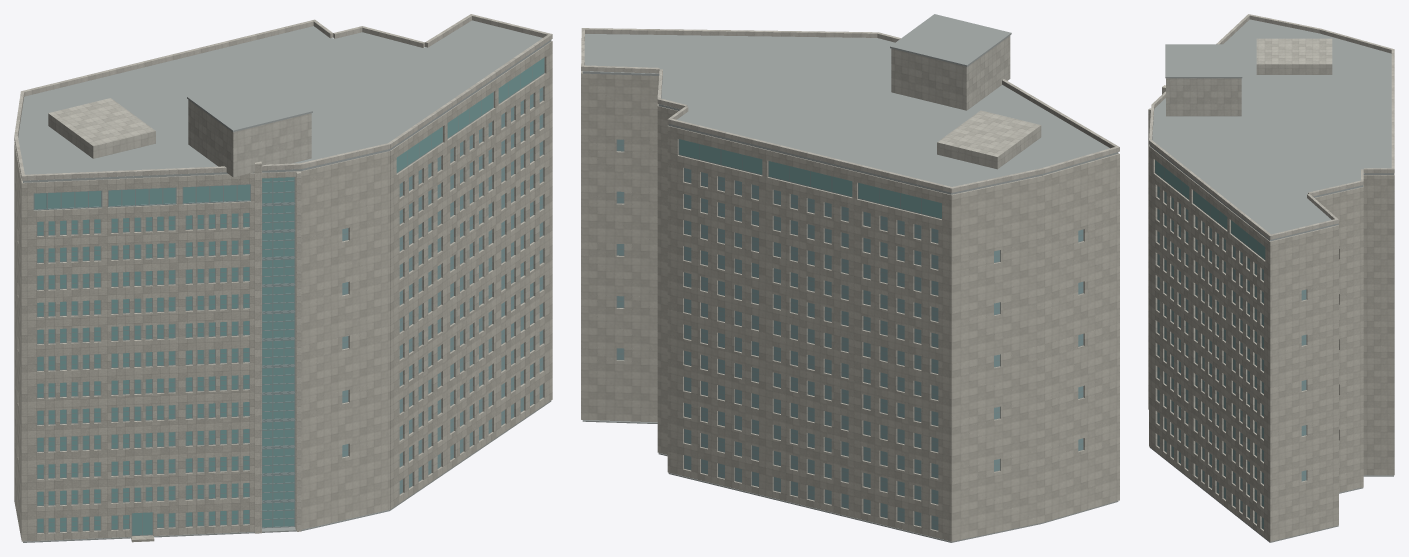
3 renders of one model, left to right at view 1: azimuth 30°, elevation 25°; view 2: azimuth 150°, elevation 25°; view 3: azimuth 270°, elevation 25°, orthographic. The views are drawn at different scales.
Parts seen in each view (by area): view 1: w13__stone, w13__roof, w13__glass, w13__frame, w13__core, w13__sideglass, w13__crown, w13__piers; view 2: w13__stone, w13__roof, w13__sideglass, w13__frame, w13__core, w13__crown, w13__glass; view 3: w13__stone, w13__roof, w13__core, w13__sideglass, w13__crown, w13__frame, w13__glass, w13__piers.
Part boxes in pixels (x1,y1,x2,y2): w13__stone: (14, 41, 552, 541); w13__roof: (18, 20, 551, 542); w13__glass: (34, 58, 544, 535); w13__frame: (33, 57, 544, 535); w13__core: (48, 98, 311, 177); w13__sideglass: (342, 87, 542, 493); w13__crown: (14, 14, 552, 180); w13__piers: (254, 161, 301, 533); w13__stone: (581, 71, 1119, 541); w13__roof: (582, 14, 1118, 542); w13__sideglass: (617, 139, 1082, 529); w13__frame: (616, 139, 1083, 530); w13__core: (891, 35, 1041, 169); w13__crown: (581, 28, 1119, 192); w13__glass: (679, 139, 941, 218); w13__stone: (1149, 144, 1394, 541); w13__roof: (1149, 19, 1393, 542); w13__core: (1166, 38, 1332, 116); w13__sideglass: (1157, 186, 1305, 528); w13__crown: (1149, 14, 1394, 239); w13__frame: (1155, 160, 1306, 529); w13__glass: (1155, 160, 1265, 259); w13__piers: (1148, 85, 1165, 409).
Size of the model in its own units: 69.56 by 50.11 by 32.6.
9 materials, 5 textured.
